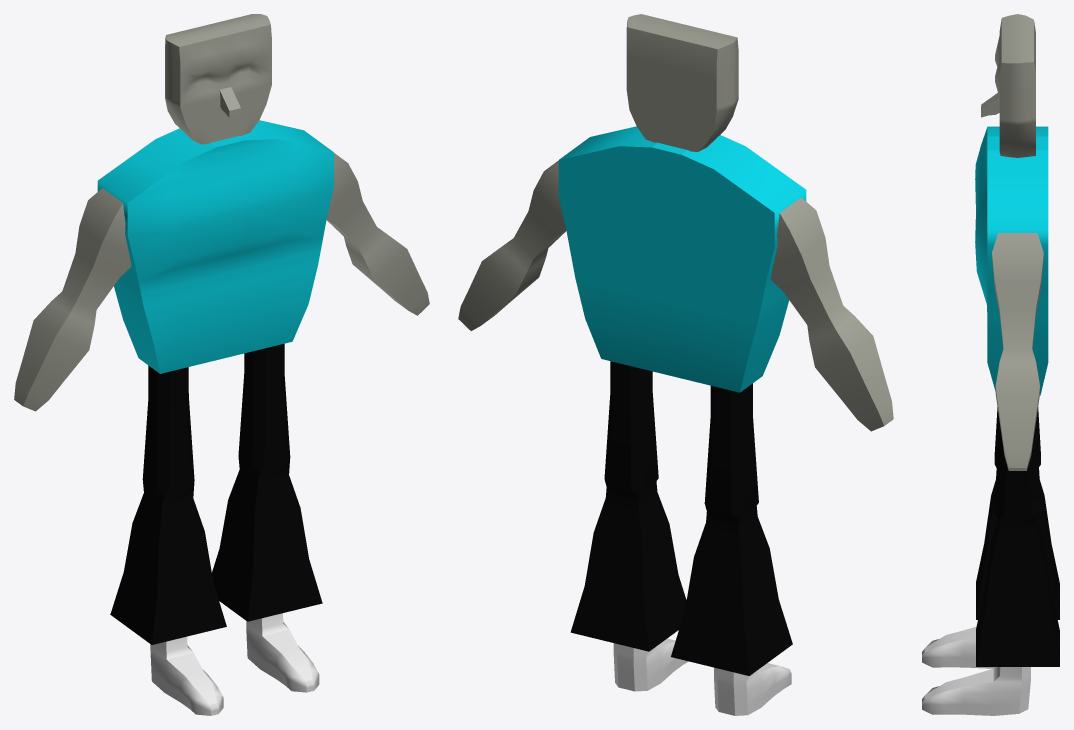
Rendered from melee.fbx.
3 renders of one model, left to right at view 1: azimuth 30°, elevation 25°; view 2: azimuth 150°, elevation 25°; view 3: azimuth 270°, elevation 25°, orthographic. The views are drawn at different scales.
Parts seen in each view (by area): view 1: pCube13; view 2: pCube13; view 3: pCube13.
Boxes of the visible parts, x1,y1,x2,y2 form: pCube13: (14,14,429,715); pCube13: (458,14,893,715); pCube13: (922,14,1059,715).
Size of the model in its own units: 13 by 19.55 by 3.77.
